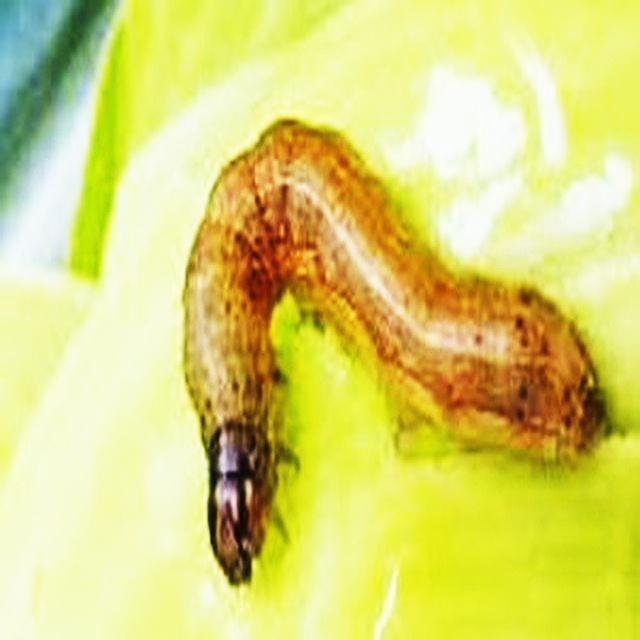Plaga: (177, 117, 606, 590)
